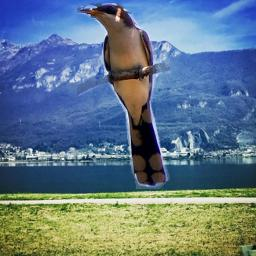Cuckoo: (77, 3, 170, 189)
